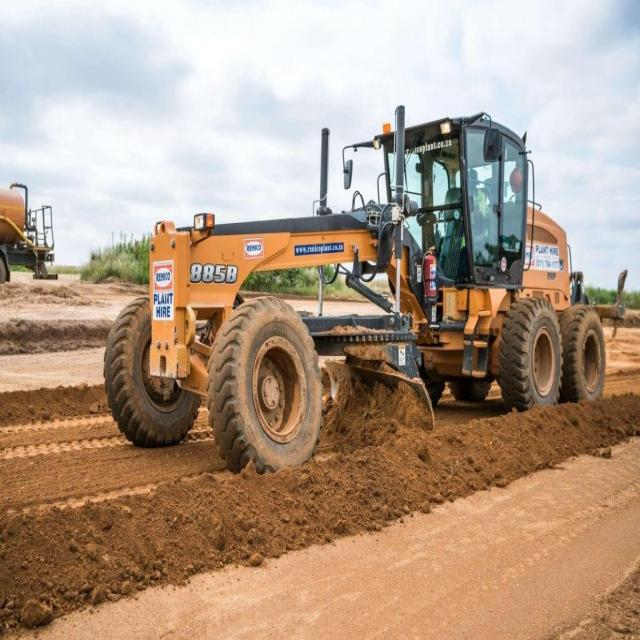Grader: (71, 61, 632, 506)
